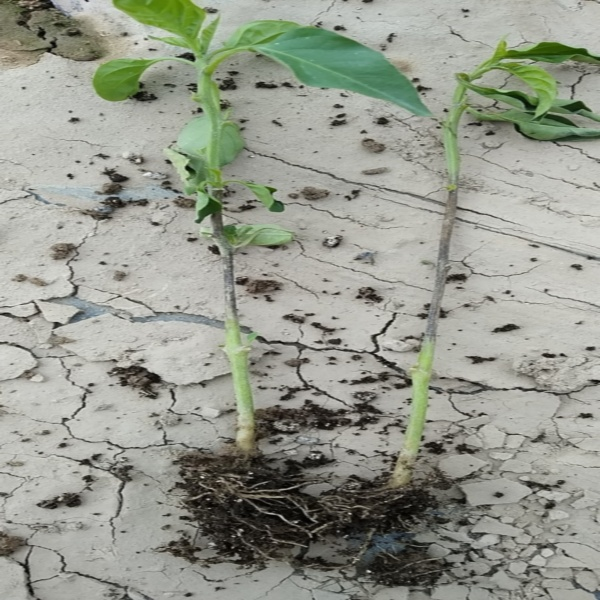blight: (421, 186, 460, 340), (208, 185, 239, 332)
